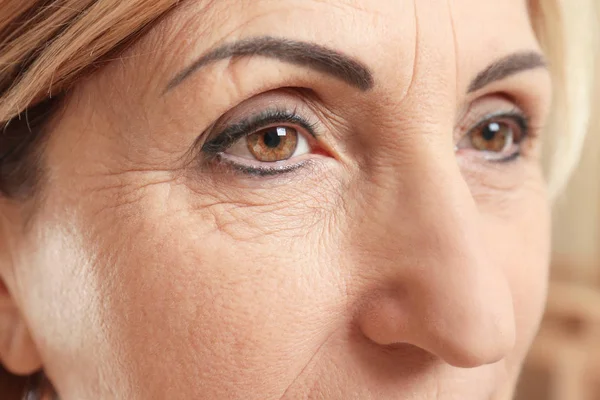Kerutan: (86, 145, 370, 258), (389, 1, 478, 111)
